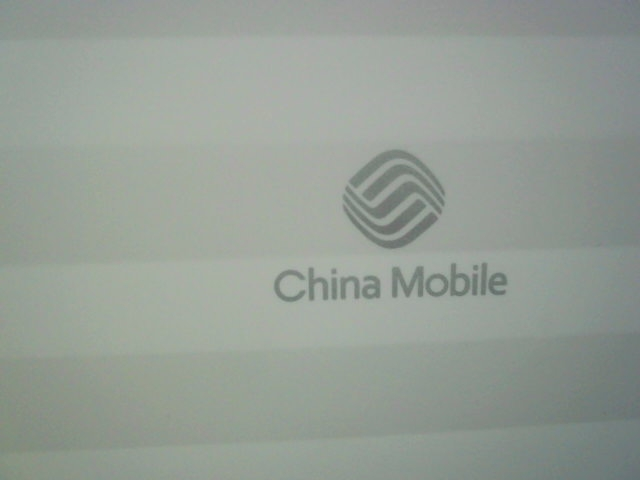AA_ChinaMobile: (253, 138, 518, 310)
